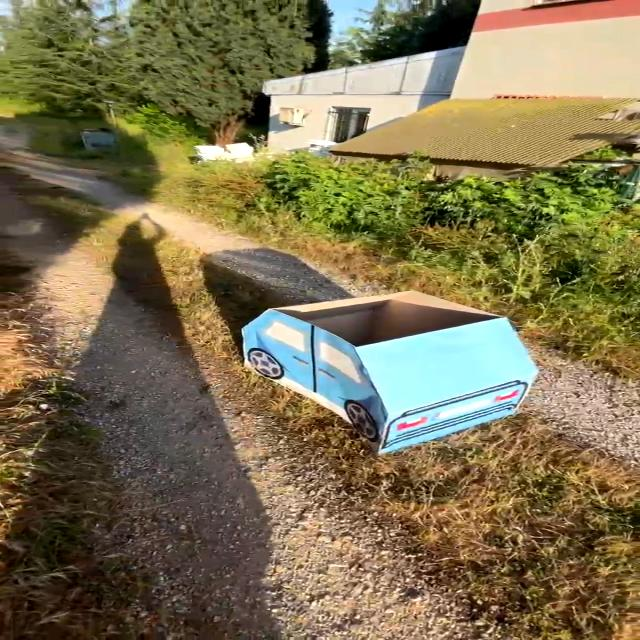blue_car: (197, 275, 596, 458)
